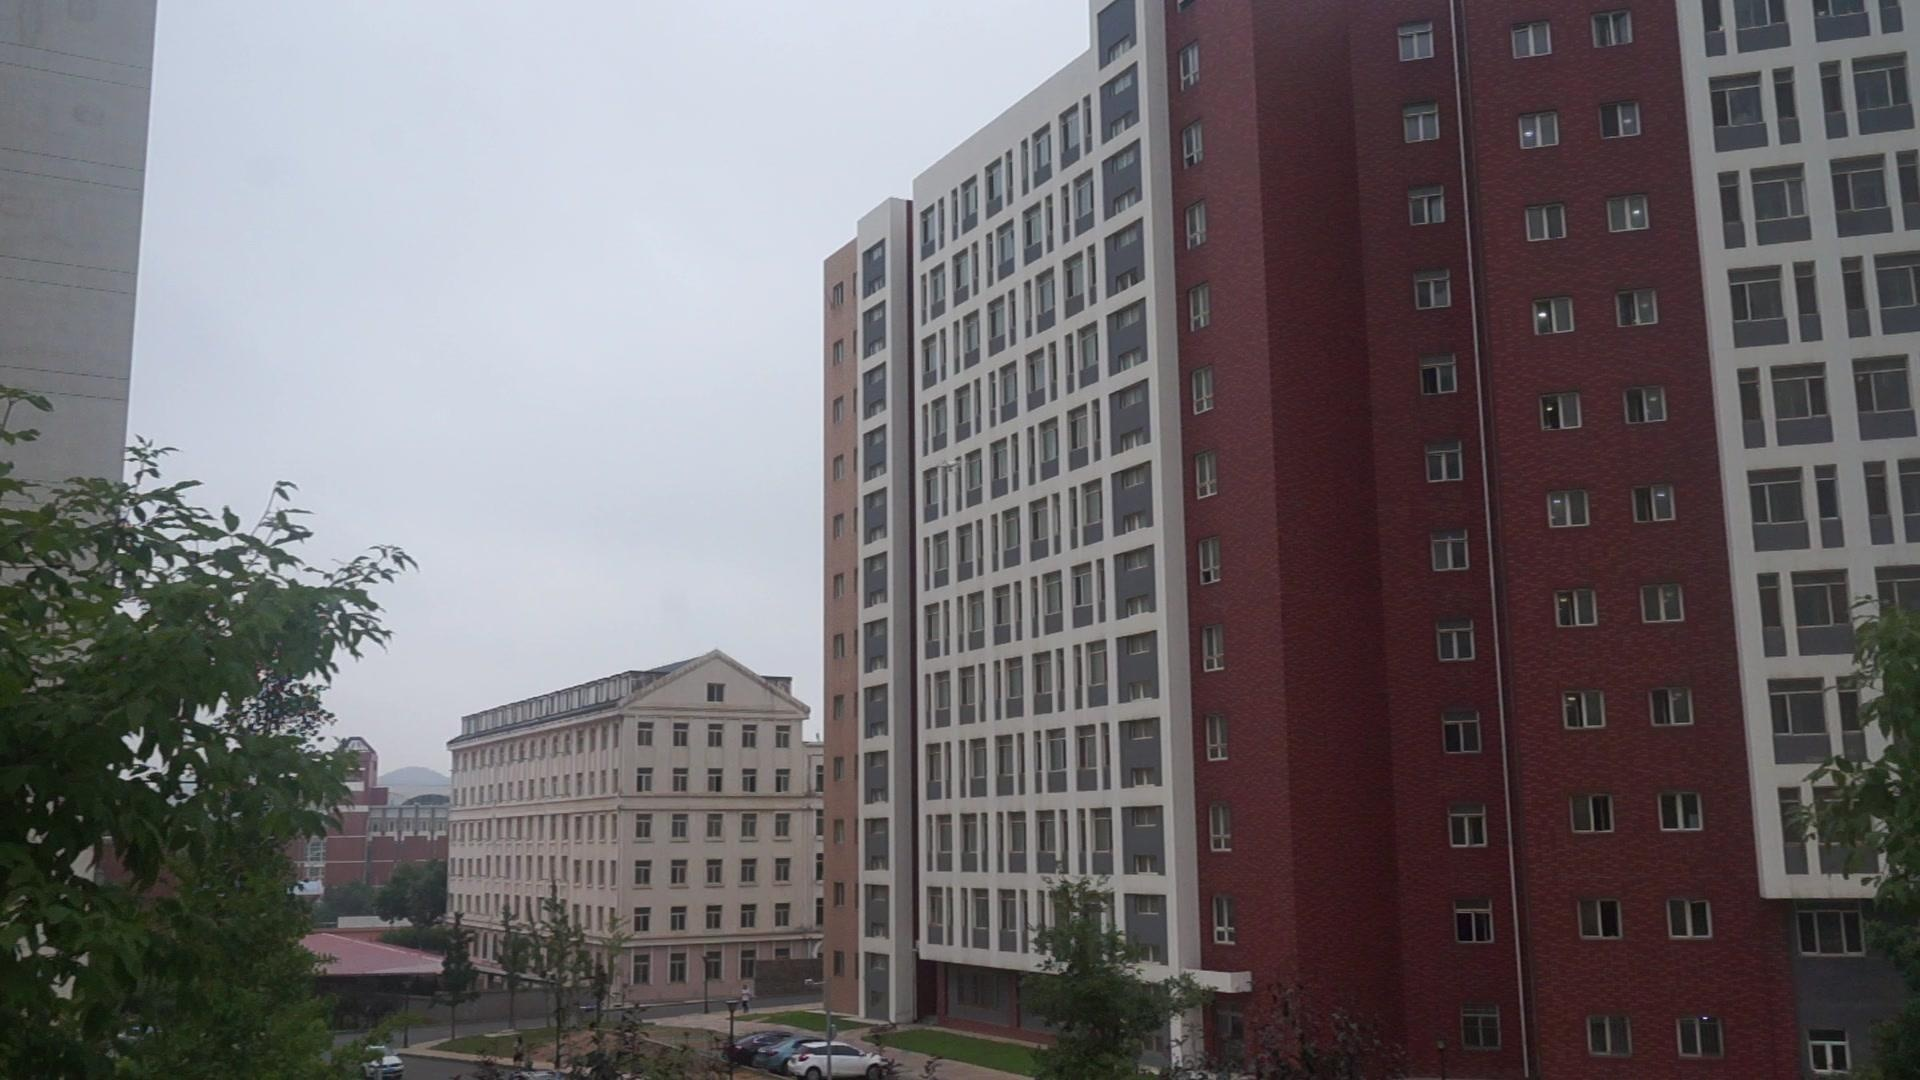UAV: (936, 462, 960, 473)
